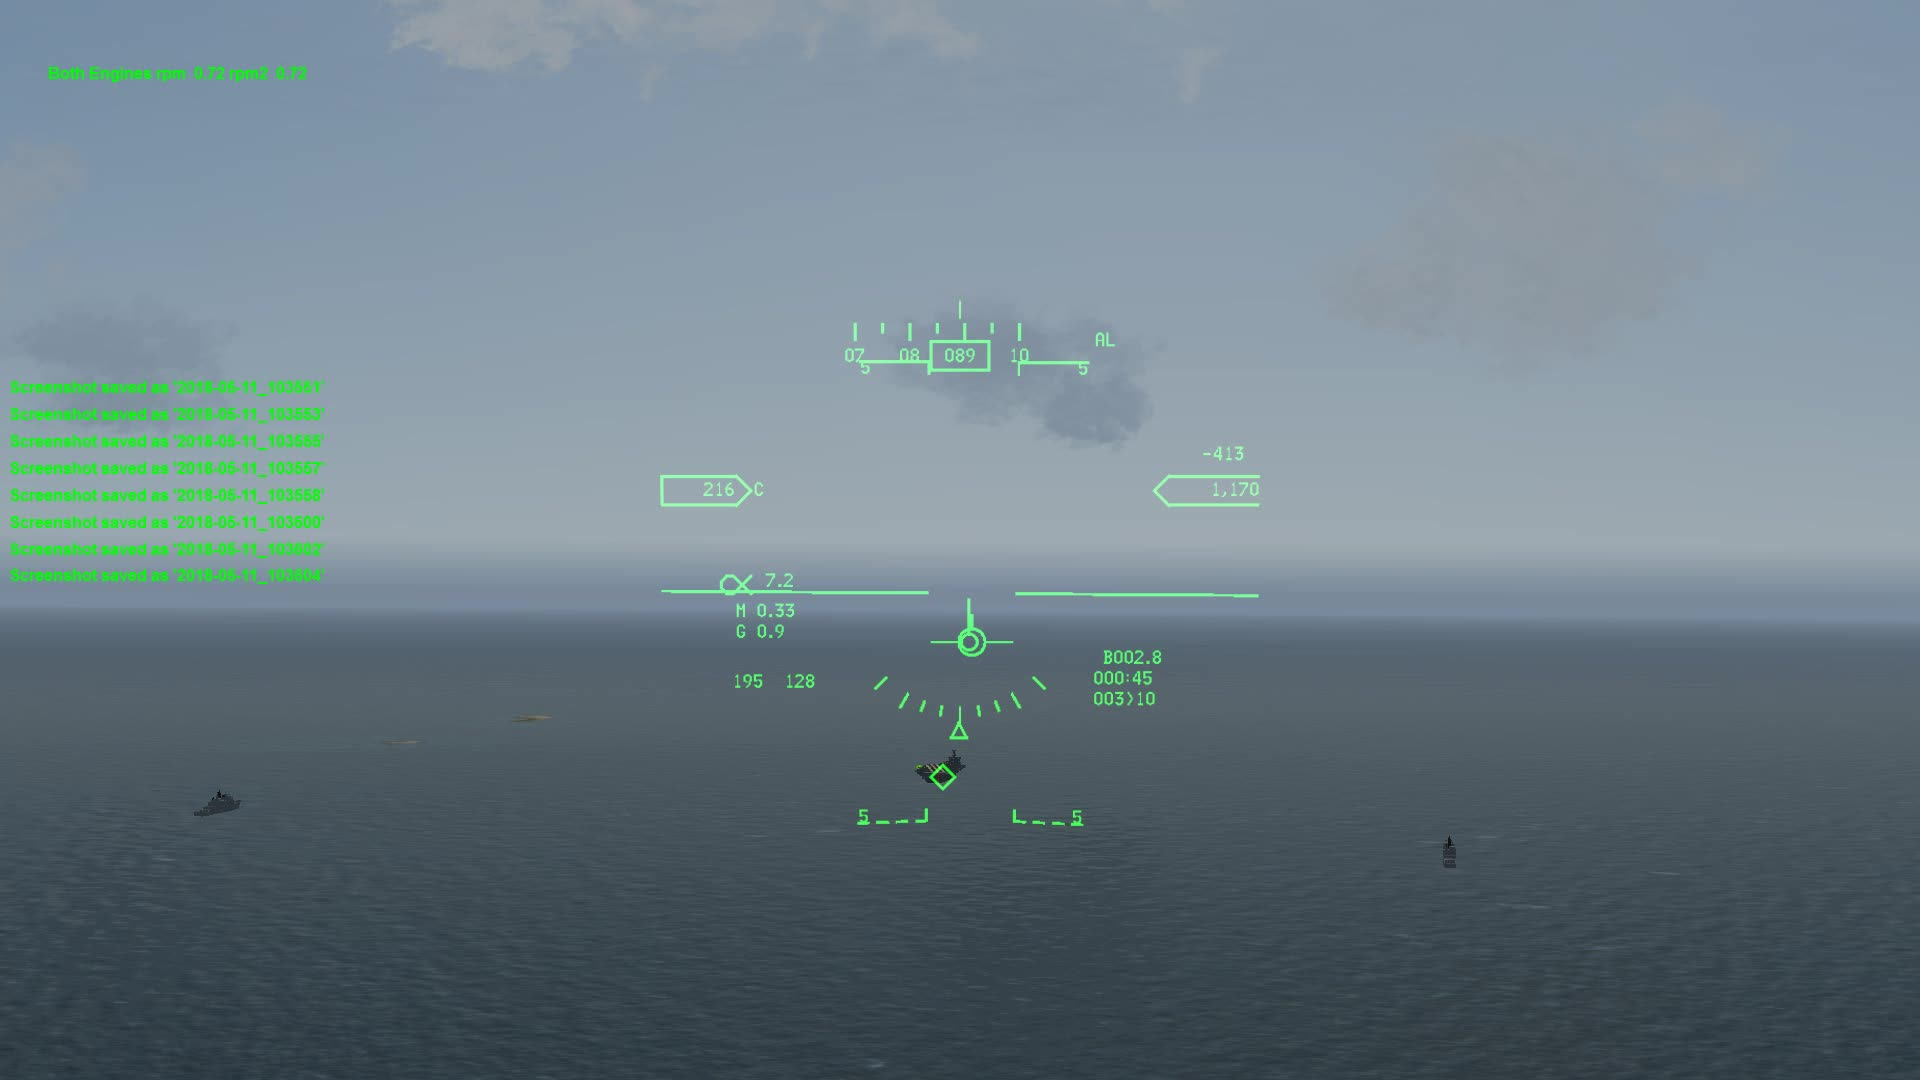speed vector: (924, 607, 1021, 666)
